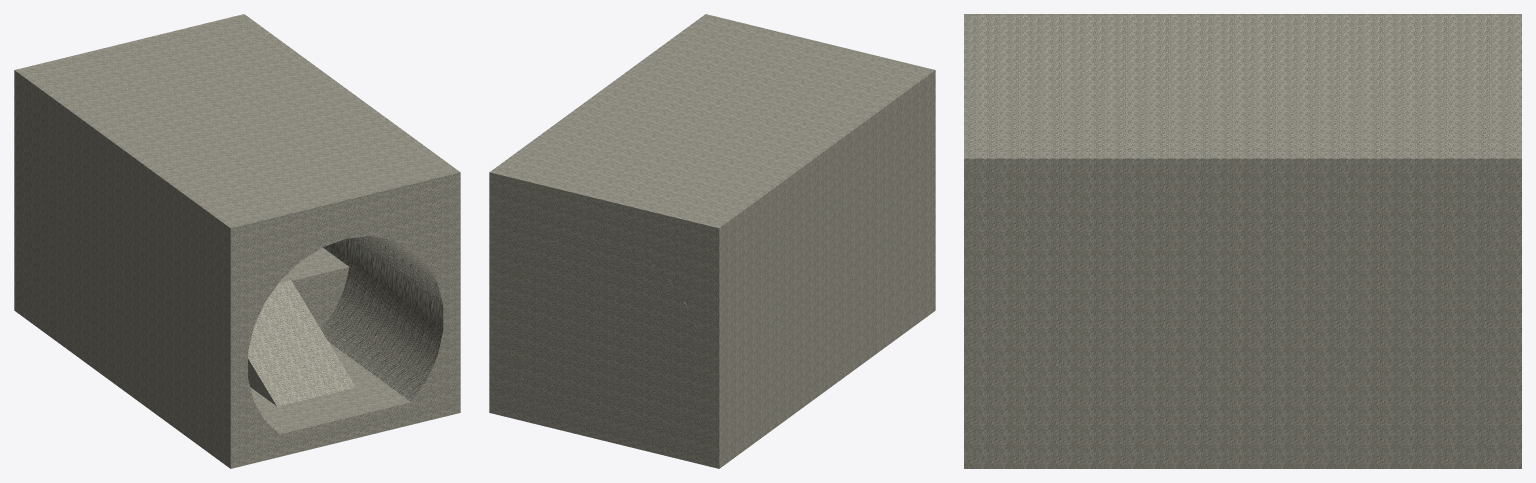
The model's file is ExcavThreeStepPreserveCore7.glb.
3 views of the same model, side by side, from view 1: azimuth 30°, elevation 25°; view 2: azimuth 150°, elevation 25°; view 3: azimuth 270°, elevation 25° (orthographic). The views are drawn at different scales.
Size of the model in its own units: 16 by 16 by 26.08.
1 material, 1 textured.
